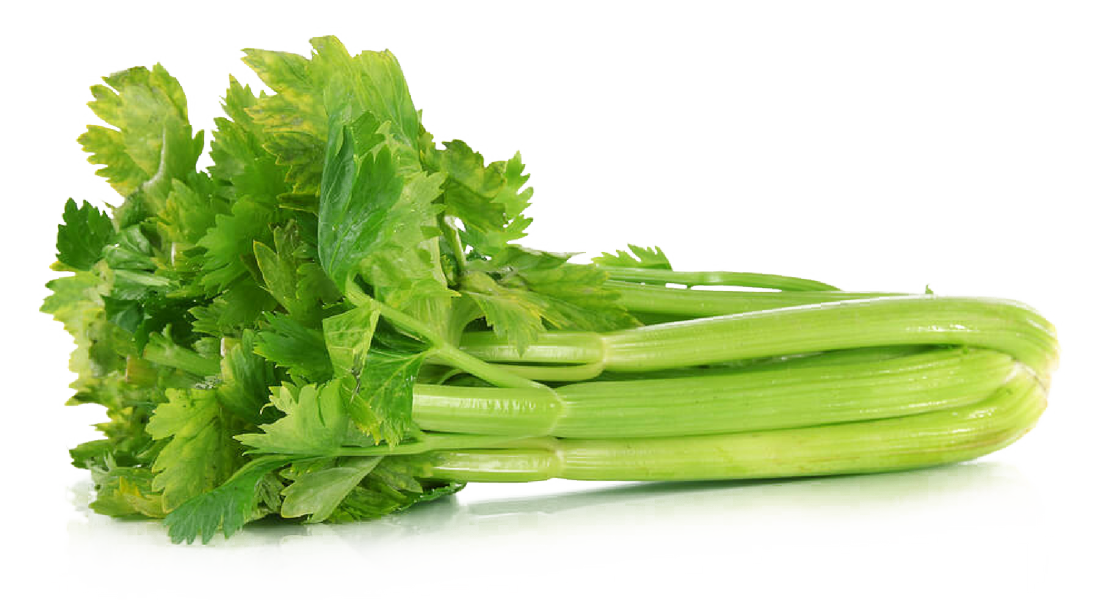Seledri: (65, 79, 1073, 538)
